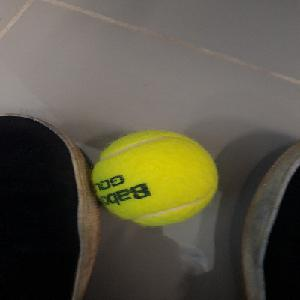Ball: (89, 129, 218, 227)
